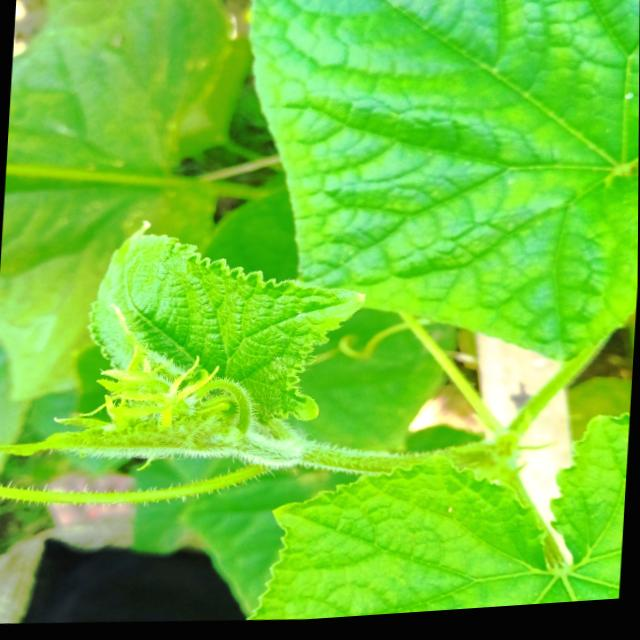Fresh-Leaf: (249, 0, 640, 361), (243, 413, 630, 620), (89, 218, 368, 423)
